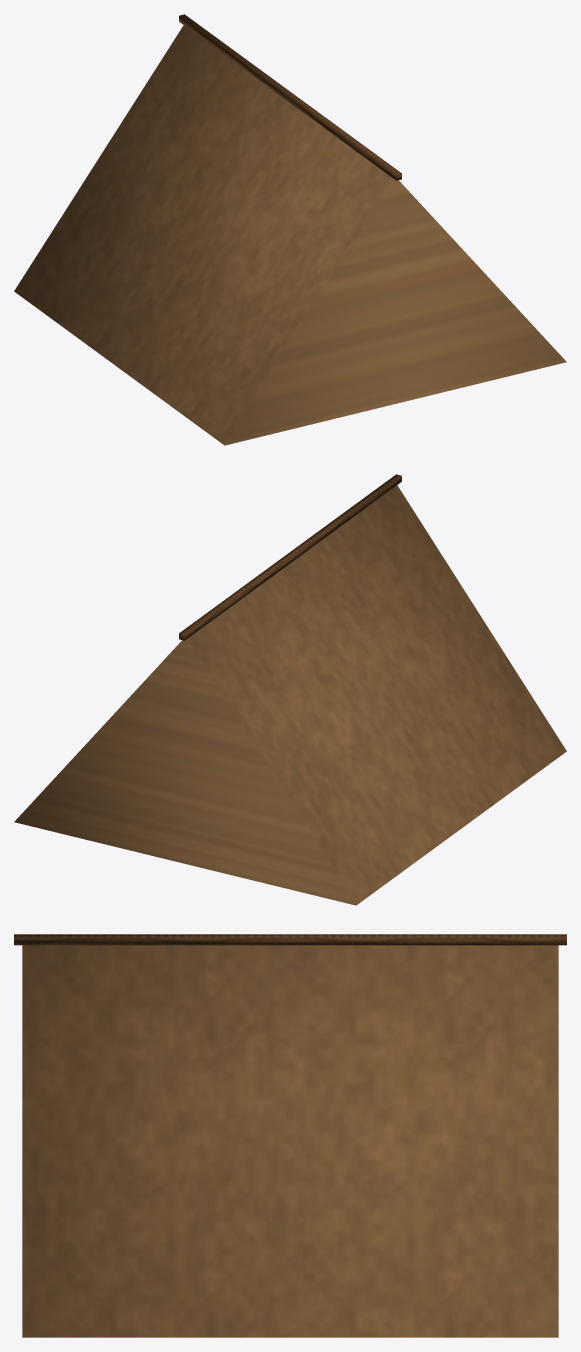
The model's file is roma_cadiri.glb.
3 renders of one model, top to bottom at view 1: azimuth 30°, elevation 25°; view 2: azimuth 150°, elevation 25°; view 3: azimuth 270°, elevation 25°, orthographic. The views are drawn at different scales.
Visible parts, largest first — view 1: roma_cadiri; view 2: roma_cadiri; view 3: roma_cadiri.
Part boxes in pixels (x1,y1,x2,y2): roma_cadiri: [14, 14, 566, 445]; roma_cadiri: [14, 474, 566, 905]; roma_cadiri: [14, 934, 566, 1337].
Size of the model in its own units: 3 by 1.95 by 3.3.
Materials: 2 (2 with a texture image).
